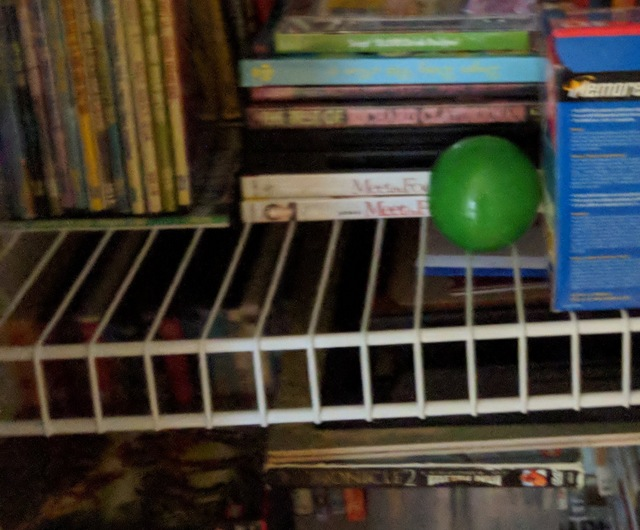ball: (429, 134, 545, 252)
